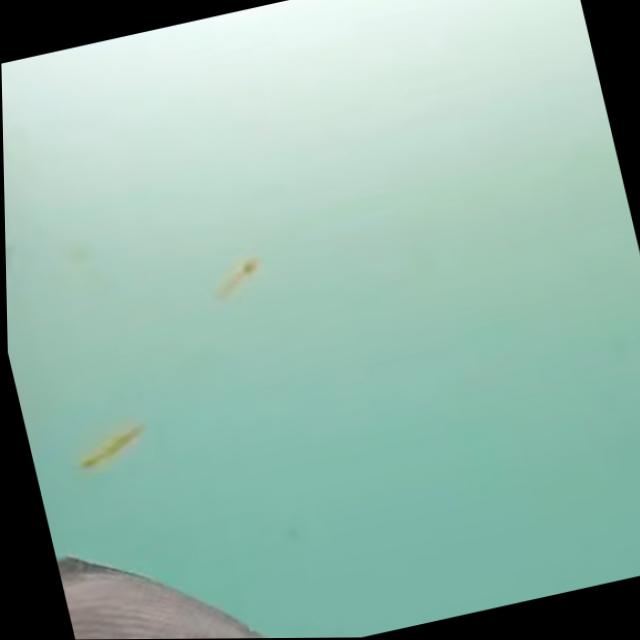fish: (31, 410, 347, 640)
